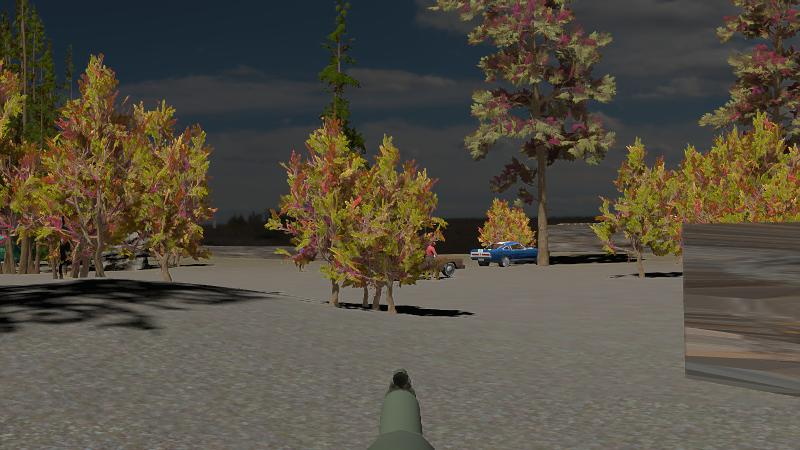car: (483, 241, 541, 267)
